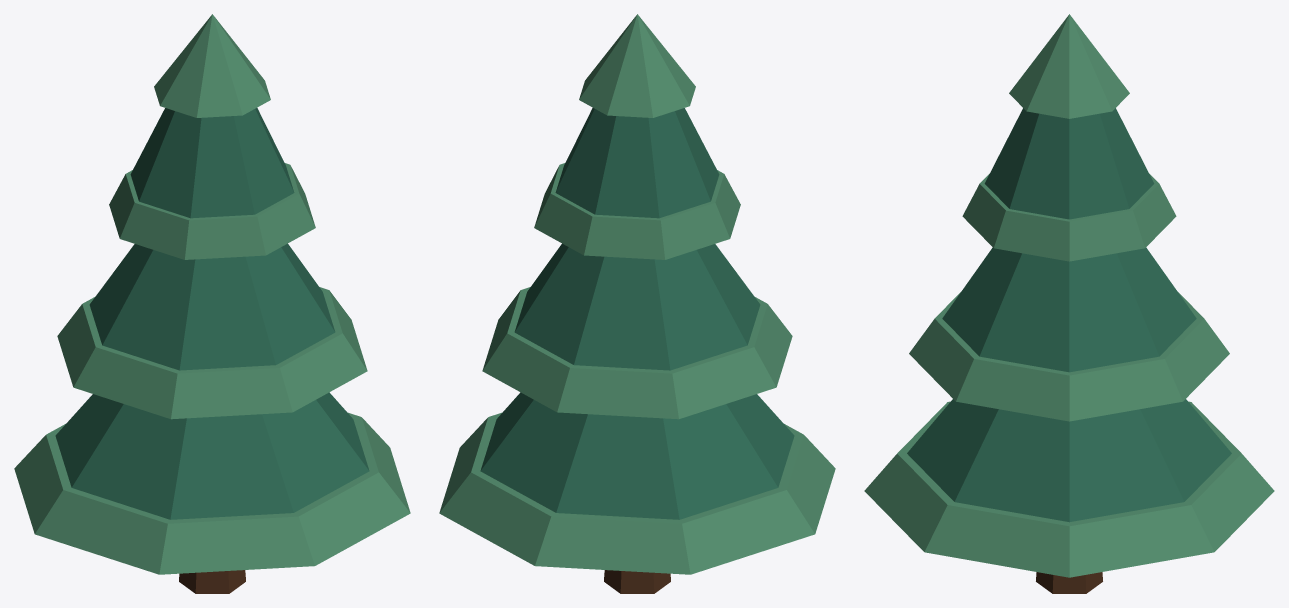
File: tree_spruce.glb
3 renders of one model, left to right at view 1: azimuth 30°, elevation 25°; view 2: azimuth 150°, elevation 25°; view 3: azimuth 270°, elevation 25°, orthographic.
Visible parts, largest first — view 1: tree_spruce; view 2: tree_spruce; view 3: tree_spruce.
Part boxes in pixels (x1,y1,x2,y2): tree_spruce: (14,14,410,593); tree_spruce: (439,14,835,593); tree_spruce: (864,14,1274,593).
Bounding box in the file's own units: 2.44 × 3.72 × 2.44.
Materials: 1 (1 with a texture image).
